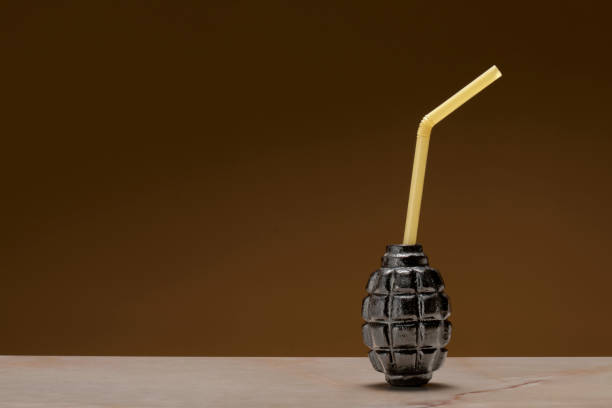e1: (361, 243, 452, 387)
